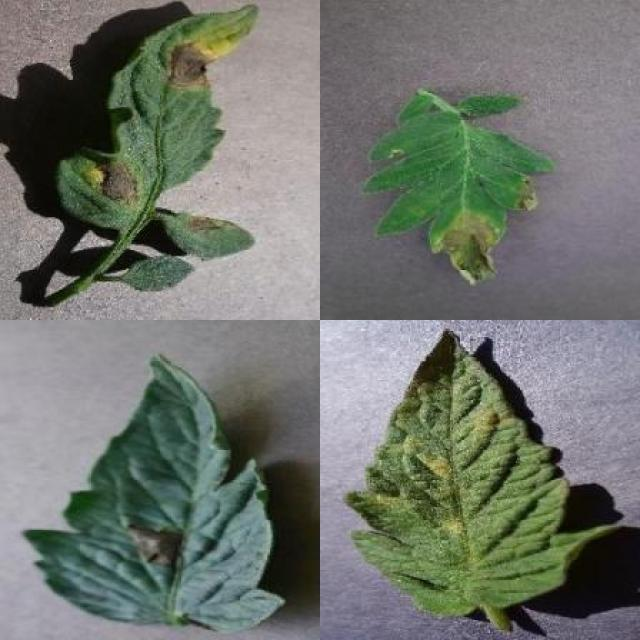Early Blight: (22, 350, 288, 637), (58, 2, 261, 232)
Late Blight: (365, 92, 558, 288)
Leaf Mold: (345, 327, 614, 620)
